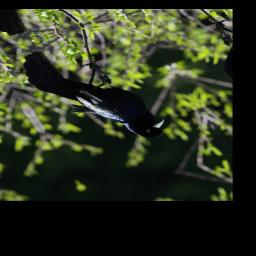Crow: (14, 30, 175, 162)
